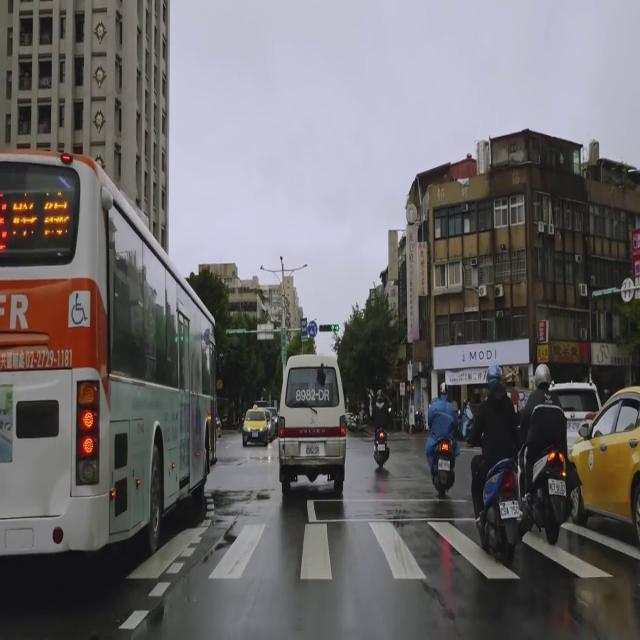green light: (318, 323, 339, 333)
